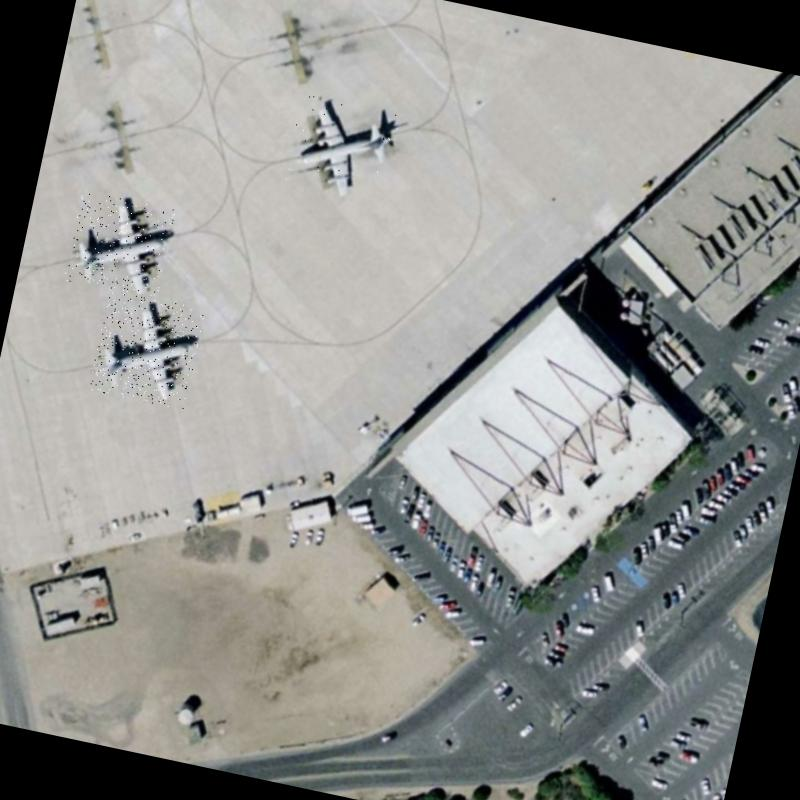A9: (88, 290, 205, 411), (283, 91, 401, 207), (64, 190, 176, 300)
